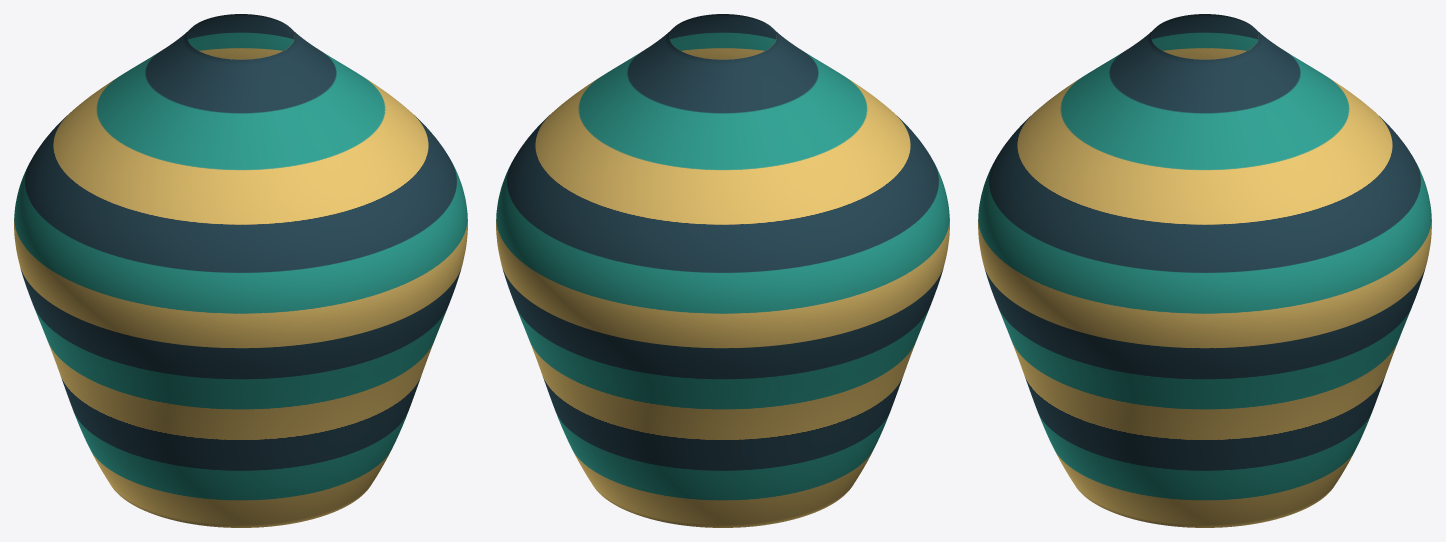
Rendered from sample-vase.glb.
3 views of the same model, side by side, from view 1: azimuth 30°, elevation 25°; view 2: azimuth 150°, elevation 25°; view 3: azimuth 270°, elevation 25° (orthographic).
Visible parts, largest first — view 1: SampleVase; view 2: SampleVase; view 3: SampleVase.
Boxes of the visible parts, x1,y1,x2,y2 form: SampleVase: (14,14,467,527); SampleVase: (496,14,949,527); SampleVase: (978,14,1431,527).
Bounding box in the file's own units: 0.9469 × 1 × 0.9469.
Materials: 1 (1 with a texture image).
